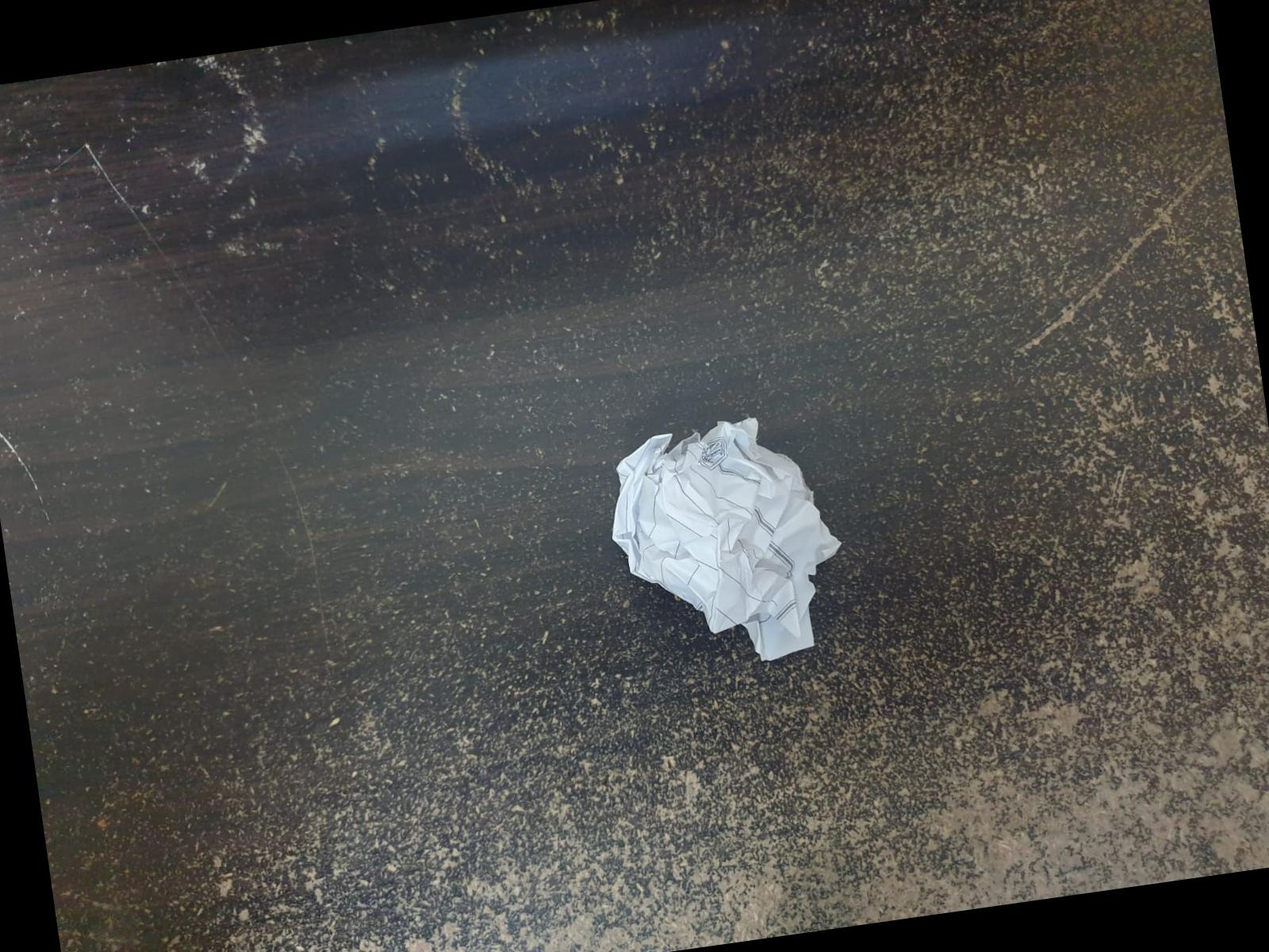Kertas: (613, 420, 838, 659)
